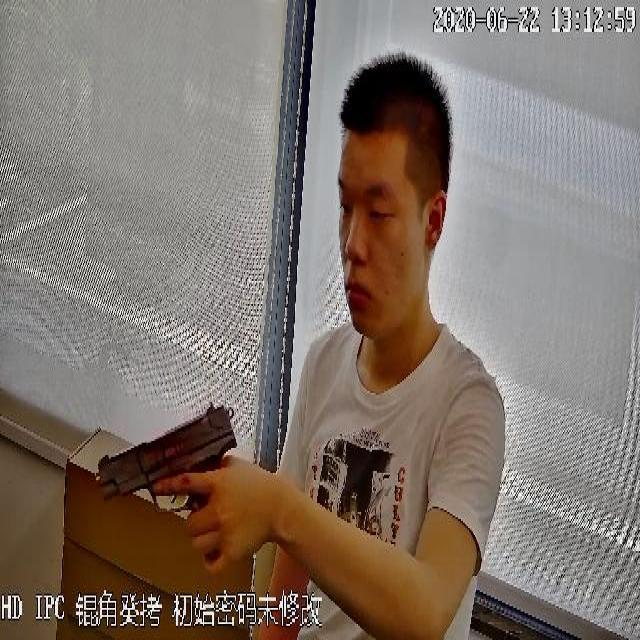pistol: (96, 398, 234, 518)
